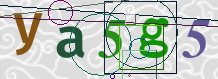5: (180, 16, 212, 60)
a: (97, 18, 126, 60), (55, 24, 84, 59)
g: (138, 16, 171, 60)
y: (10, 10, 44, 57)
